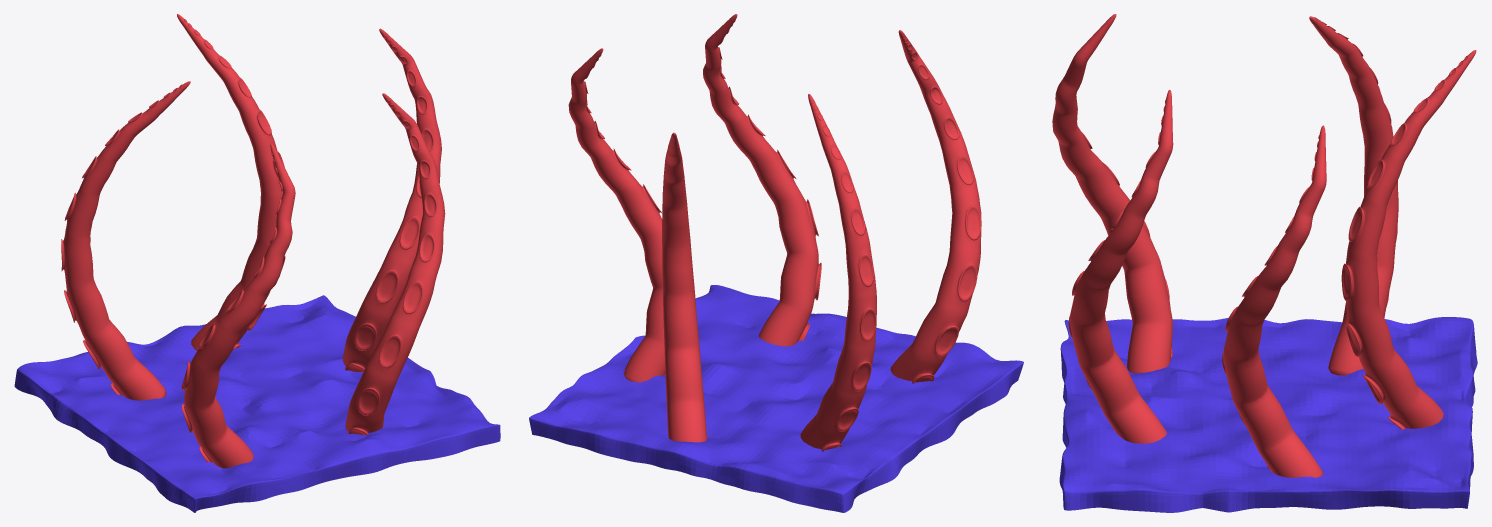
The model's file is chapadlo3.fbx.
3 views of the same model, side by side, from view 1: azimuth 30°, elevation 25°; view 2: azimuth 150°, elevation 25°; view 3: azimuth 270°, elevation 25° (orthographic). The views are drawn at different scales.
Parts seen in each view (by area): view 1: Plane.010, Cylinder.002, Cylinder.003, Cylinder.001, Cylinder.004, Cylinder.005; view 2: Plane.010, Cylinder.001, Cylinder.003, Cylinder.002, Cylinder.005, Cylinder.004; view 3: Plane.010, Cylinder.005, Cylinder.004, Cylinder.003, Cylinder.001, Cylinder.002.
Boxes of the visible parts, x1,y1,x2,y2 form: Plane.010: (14,295,500,512); Cylinder.002: (61,81,190,400); Cylinder.003: (345,93,445,435); Cylinder.001: (181,143,295,468); Cylinder.004: (342,28,441,371); Cylinder.005: (177,14,285,350); Plane.010: (529,285,1023,512); Cylinder.001: (890,30,981,383); Cylinder.003: (703,14,821,346); Cylinder.002: (800,94,876,451); Cylinder.005: (662,132,707,442); Cylinder.004: (568,48,665,382); Plane.010: (1059,317,1477,512); Cylinder.005: (1341,50,1476,429); Cylinder.004: (1222,125,1326,477); Cylinder.003: (1068,90,1173,443); Cylinder.001: (1052,14,1172,373); Cylinder.002: (1309,16,1398,375).
Bounding box in the file's own units: 731 × 682 × 680.
